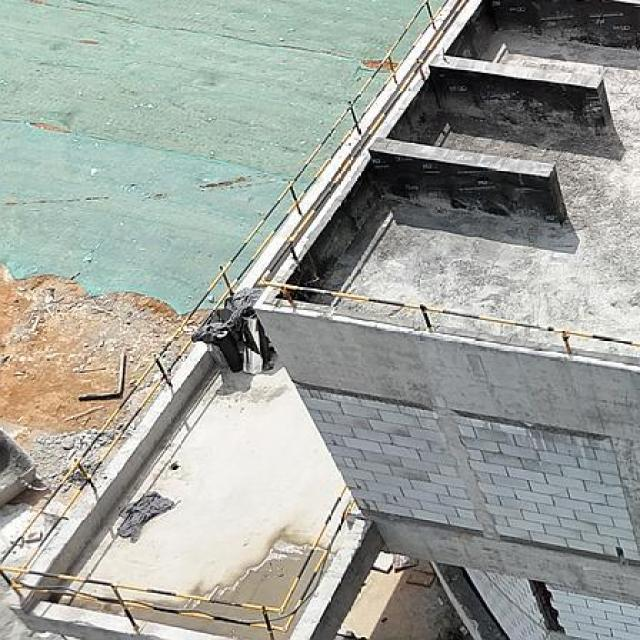edge_guardrail: (2, 0, 451, 640), (251, 0, 639, 354)
